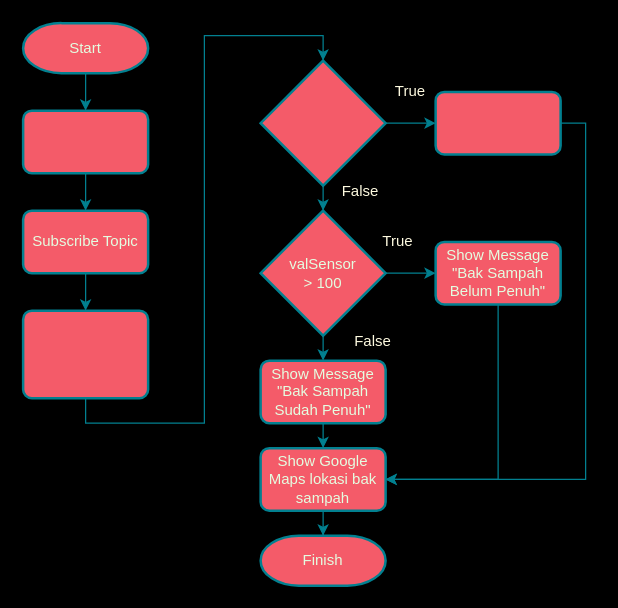
Some shapes in this 618 by 608 pixel diagram are drawn without their labels. Each missing label, with the box of its shape:
Connect MQTT Broker: (21, 109, 149, 174)
Parsing data json latutide, longitude, valSensor from Topic: (21, 309, 149, 399)
Show Message "Bak Sampah Masih Kosong": (434, 90, 561, 155)
valSensor > 250: (259, 59, 386, 186)
